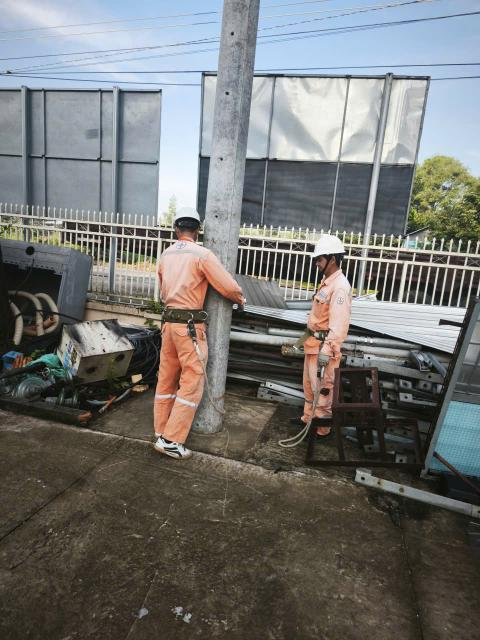gloves: (312, 349, 332, 372)
harness: (153, 302, 213, 338), (293, 319, 329, 341)
helmet: (164, 204, 208, 240), (309, 232, 352, 260)
shoes: (154, 437, 195, 461), (289, 413, 334, 428), (306, 427, 337, 446)
